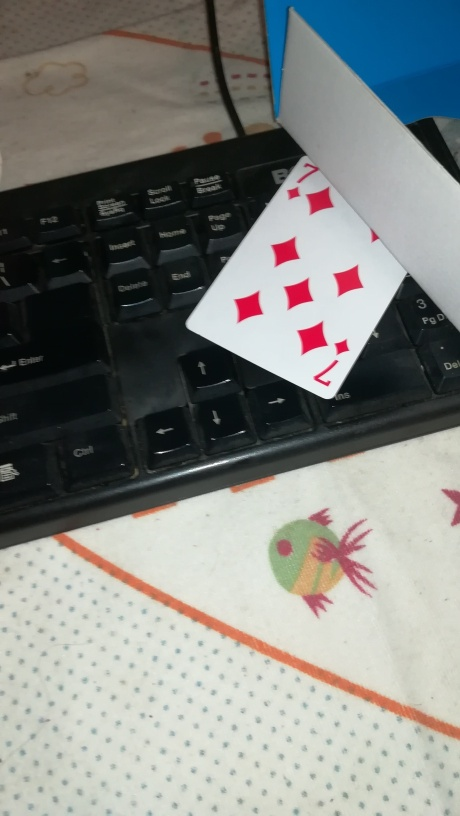fk 7: (184, 153, 423, 398)
